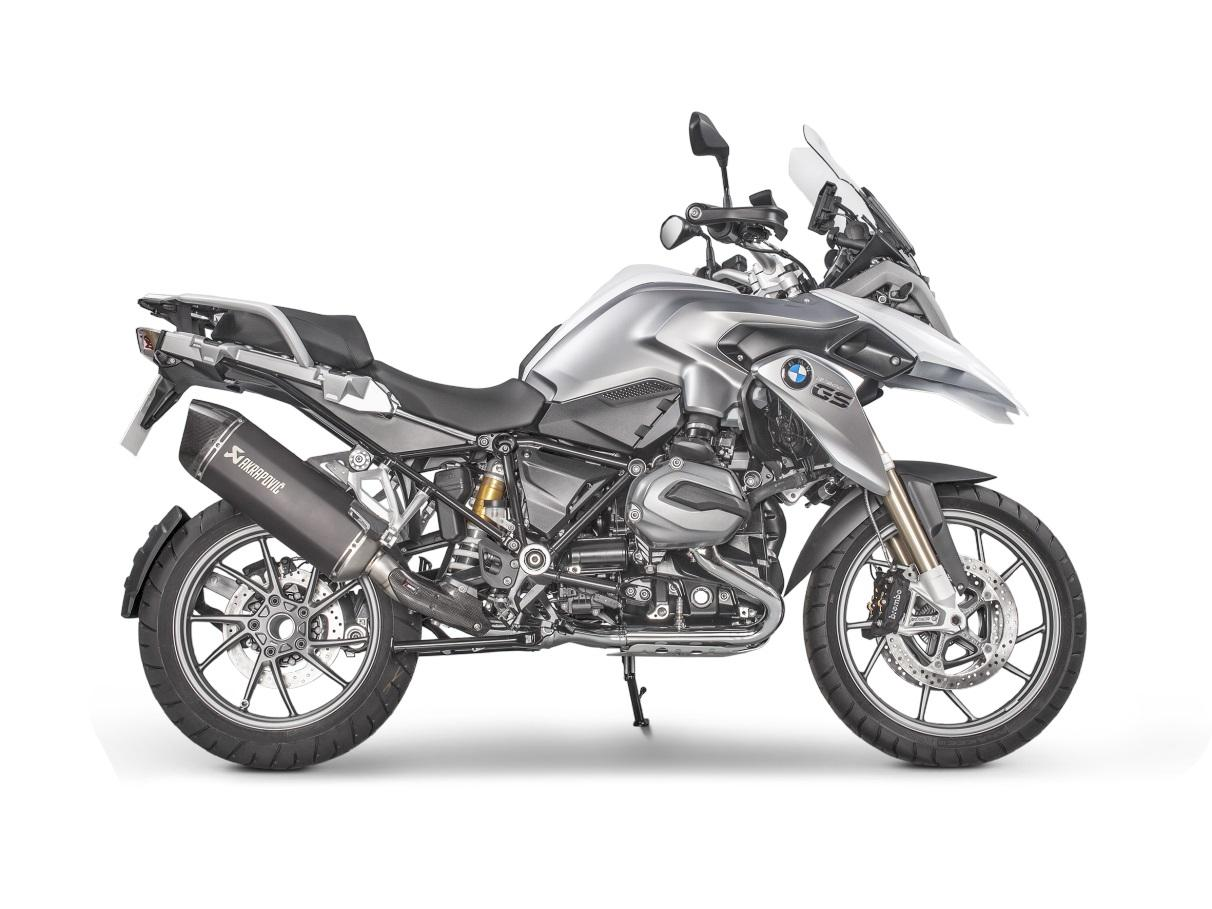engine-chasis: (390, 409, 808, 657), (605, 636, 771, 728), (442, 517, 497, 578), (468, 455, 508, 528)
exhaust: (178, 399, 530, 637), (540, 545, 786, 649)
frontside: (514, 124, 1029, 636)
handlebar: (659, 110, 910, 299)
motorbike: (121, 111, 1088, 770)
rearside: (120, 292, 522, 617), (120, 505, 192, 619)
seat: (273, 305, 546, 435)
tank: (518, 263, 742, 381)
wheel: (802, 482, 1087, 769), (138, 498, 422, 772), (864, 488, 898, 572)
